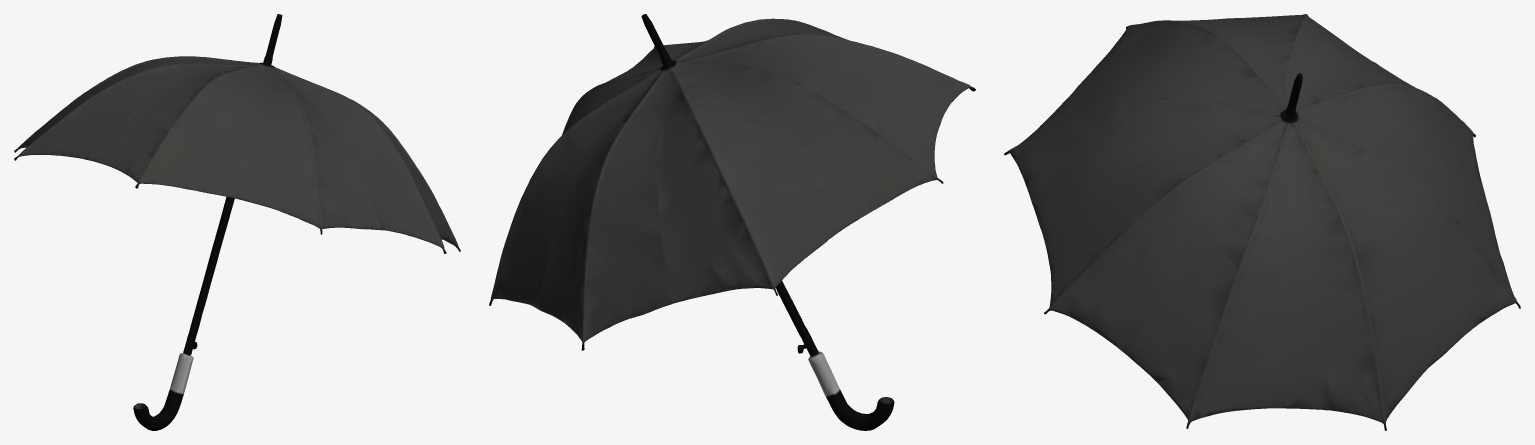
The picture shows the model from 3 angles, left to right: view 1: azimuth 30°, elevation 25°; view 2: azimuth 150°, elevation 25°; view 3: azimuth 270°, elevation 25°; orthographic projection. The views are drawn at different scales.
Visible parts, largest first — view 1: tripo_node_7e952b7e-6a64-46a7-bff5-74d4b8afa1ae; view 2: tripo_node_7e952b7e-6a64-46a7-bff5-74d4b8afa1ae; view 3: tripo_node_7e952b7e-6a64-46a7-bff5-74d4b8afa1ae.
Boxes of the visible parts, <box> form: tripo_node_7e952b7e-6a64-46a7-bff5-74d4b8afa1ae: <box>14,14,460,430</box>; tripo_node_7e952b7e-6a64-46a7-bff5-74d4b8afa1ae: <box>489,14,975,430</box>; tripo_node_7e952b7e-6a64-46a7-bff5-74d4b8afa1ae: <box>1004,14,1520,430</box>.
Bounding box in the file's own units: 0.9999 × 0.8463 × 0.9531.
Materials: 1 (1 with a texture image).
